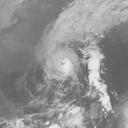cyclone: (45, 48, 77, 81)
